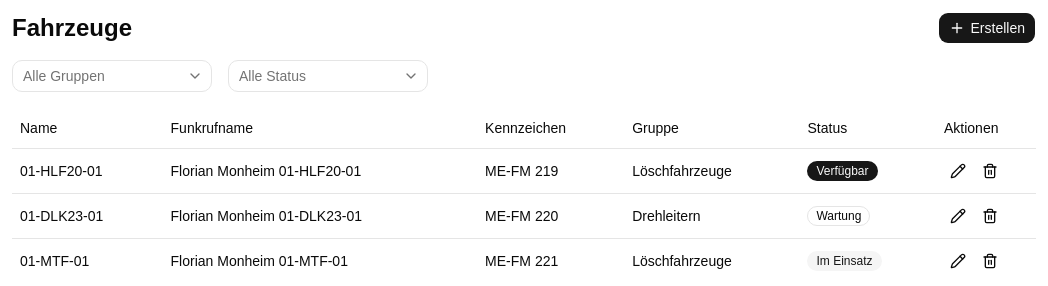
Test case: VehiclesPage API Integration › filters vehicles by vehicleGroupId
Expected: the text "01-HLF20-01" is shown, [12,148,162,193]
# Click the group filter trigger
Click the dropdown "Alle Gruppen". click: coordinates (112, 76)
box: [12,60,212,92]
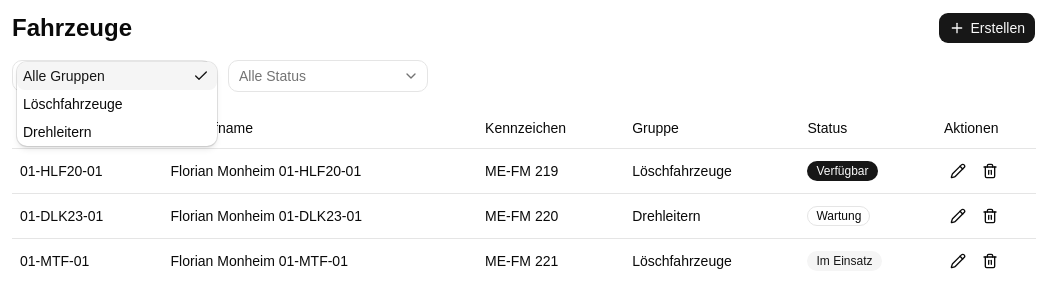
Click the option "Löschfahrzeuge". click: coordinates (73, 104)
box: [23,96,123,112]
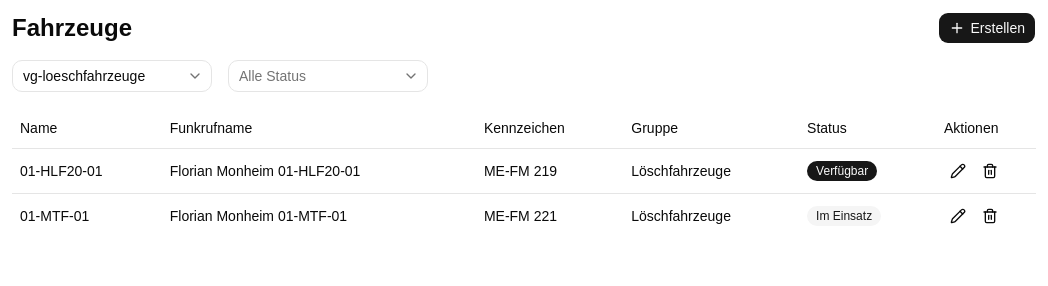
Expected: the text "vg-loeschfahrzeuge" is shown, [23,68,145,84]
